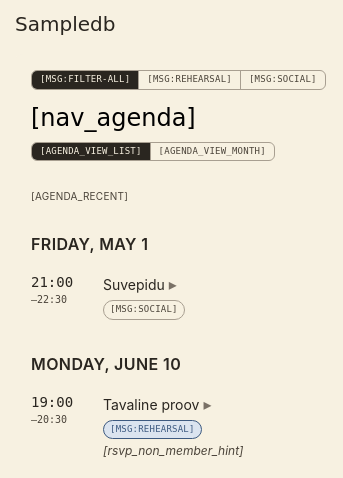
Test: #214 — filtered-empty state › a filter yielding ZERO upcoming rows shows agenda-filter-empty, NOT agenda-empty
What coordinates should you click on to do the following:
click the button "[msg:social]"
I would click on:
 (283, 80)
Its box is [241,71,325,88].
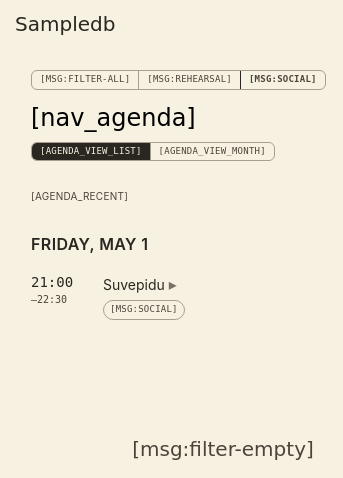
Expected: the element with test id "agenda-filter-empty" reads "[msg:filter-empty]", [132,437,314,461]
